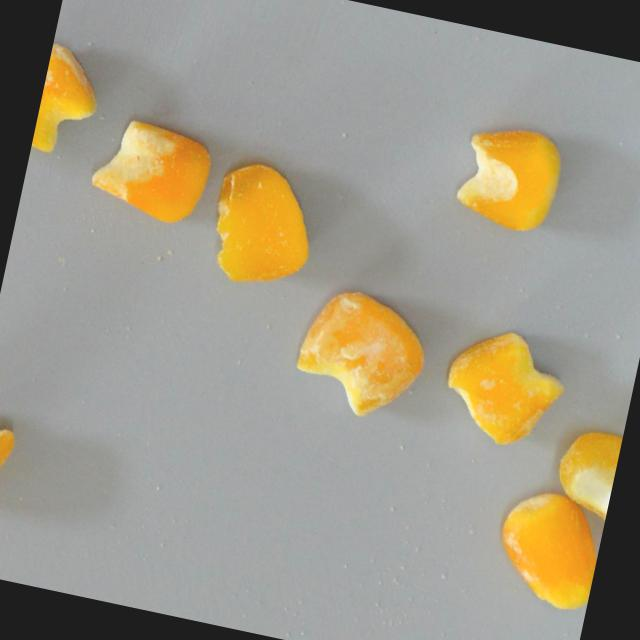pelicula: (287, 280, 435, 426), (434, 320, 572, 455), (200, 155, 325, 295), (487, 481, 608, 614), (83, 113, 216, 229), (452, 120, 565, 236), (29, 41, 108, 161), (548, 423, 623, 527), (0, 411, 21, 515)
